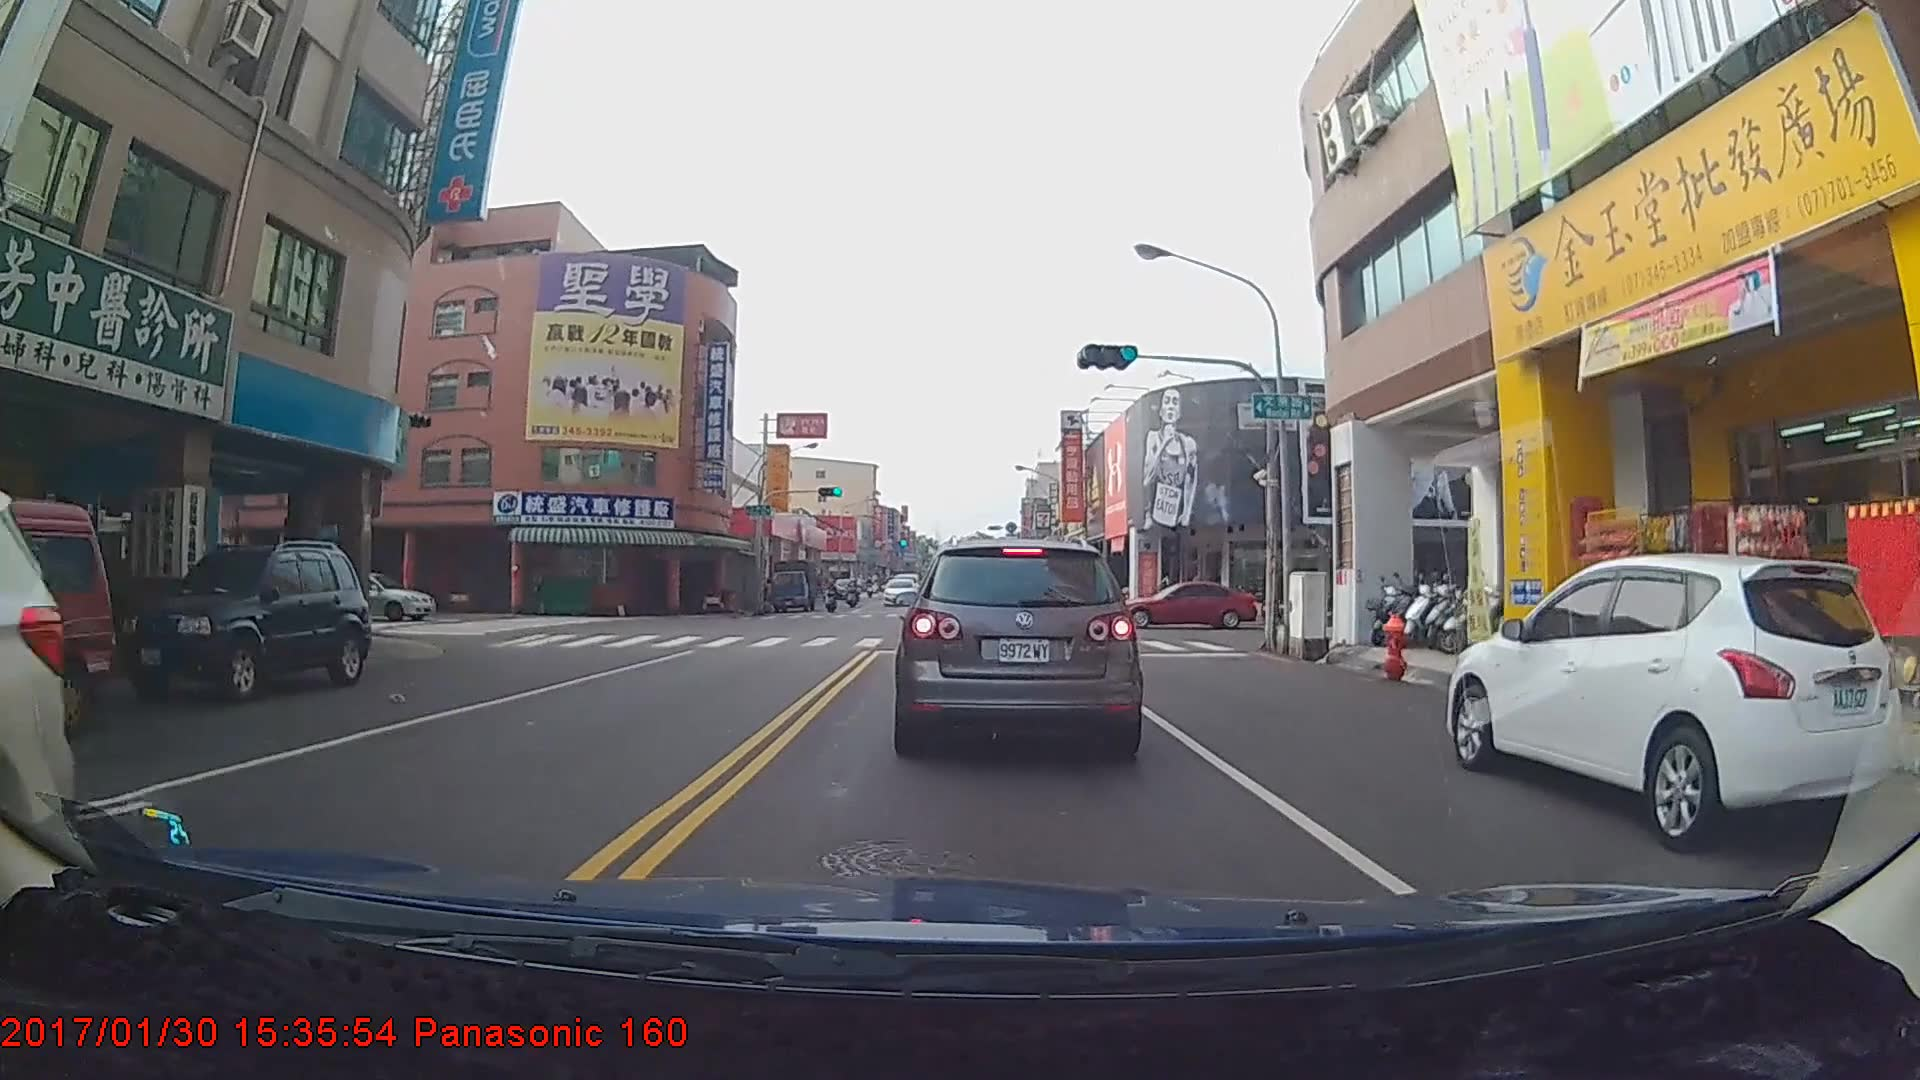rider: (817, 582, 842, 619), (844, 581, 864, 612)
vehicle: (1450, 549, 1903, 853), (897, 535, 1136, 756), (120, 539, 372, 703), (0, 497, 119, 747), (1110, 577, 1254, 629), (300, 571, 437, 622), (768, 561, 821, 616), (882, 579, 918, 609)
